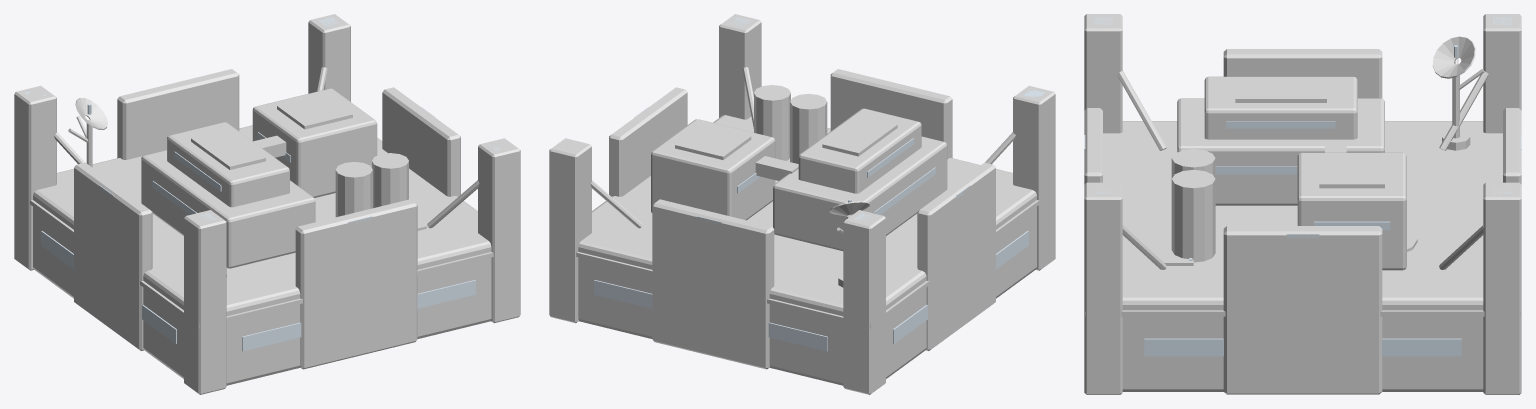
Rendered from SM_StationModule_ResearchLab_01.fbx.
3 renders of one model, left to right at view 1: azimuth 30°, elevation 25°; view 2: azimuth 150°, elevation 25°; view 3: azimuth 270°, elevation 25°, orthographic. The views are drawn at different scales.
Visible parts, largest first — view 1: SM_StationModule_ResearchLab_01; view 2: SM_StationModule_ResearchLab_01; view 3: SM_StationModule_ResearchLab_01.
Part boxes in pixels (left/top/right/bottom): SM_StationModule_ResearchLab_01: left=14, top=14, right=520, bottom=394; SM_StationModule_ResearchLab_01: left=549, top=14, right=1055, bottom=394; SM_StationModule_ResearchLab_01: left=1084, top=14, right=1521, bottom=394.
Size of what is drawn, in the model's own units: 800 by 800 by 400.
